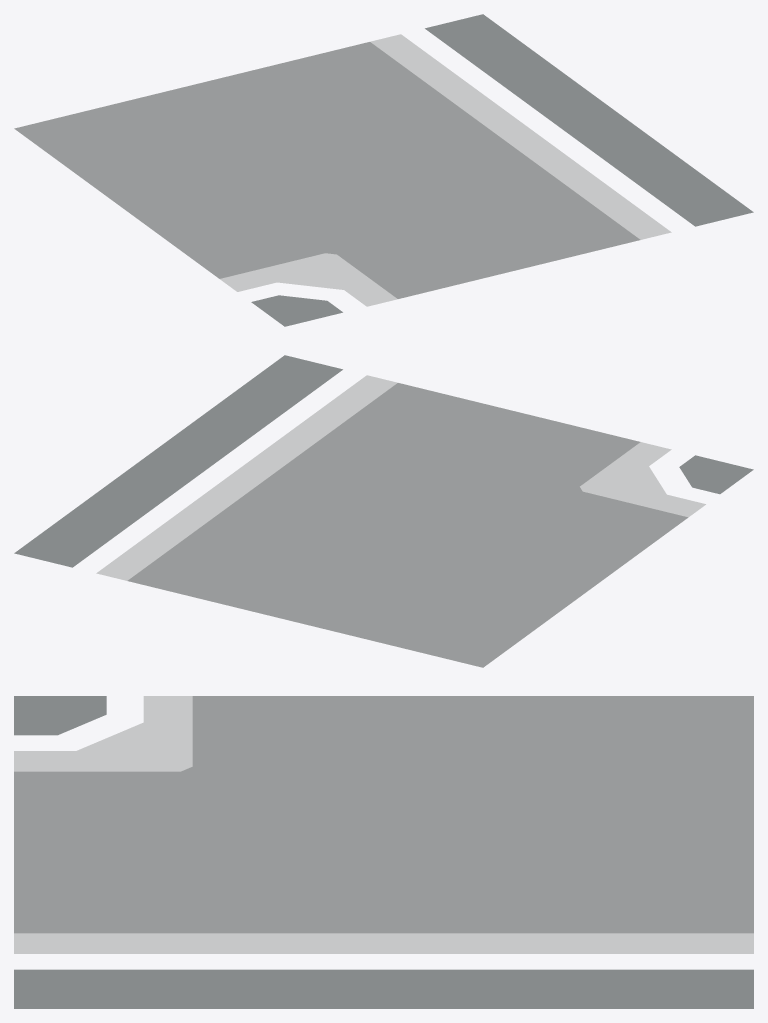
The model's file is Ceiling_type_A_052_002.glb.
3 renders of one model, top to bottom at view 1: azimuth 30°, elevation 25°; view 2: azimuth 150°, elevation 25°; view 3: azimuth 270°, elevation 25°, orthographic. The views are drawn at different scales.
Visible parts, largest first — view 1: Ceiling_type_A_052.002; view 2: Ceiling_type_A_052.002; view 3: Ceiling_type_A_052.002.
Part boxes in pixels (x1,y1,x2,y2): Ceiling_type_A_052.002: (14,14,753,326); Ceiling_type_A_052.002: (14,355,753,667); Ceiling_type_A_052.002: (14,696,753,1008).
Bounding box in the file's own units: 4 × 0.035 × 4.
2 materials, 2 textured.
